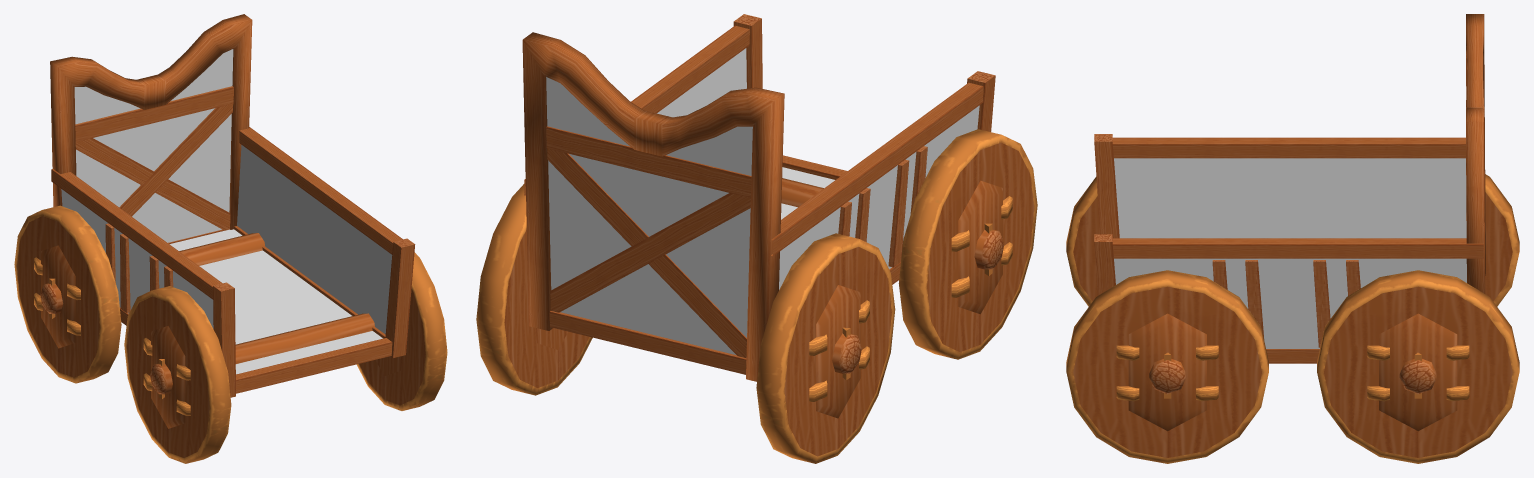
File: cart.fbx
3 views of the same model, side by side, from view 1: azimuth 30°, elevation 25°; view 2: azimuth 150°, elevation 25°; view 3: azimuth 270°, elevation 25° (orthographic). The views are drawn at different scales.
Visible parts, largest first — view 1: Cylinder.003; view 2: Cylinder.003; view 3: Cylinder.003.
Part boxes in pixels (x1,y1,x2,y2): Cylinder.003: (14,14,447,463); Cylinder.003: (476,14,1037,463); Cylinder.003: (1066,14,1519,463).
Bounding box in the file's own units: 2.24 × 2.39 × 2.97.
